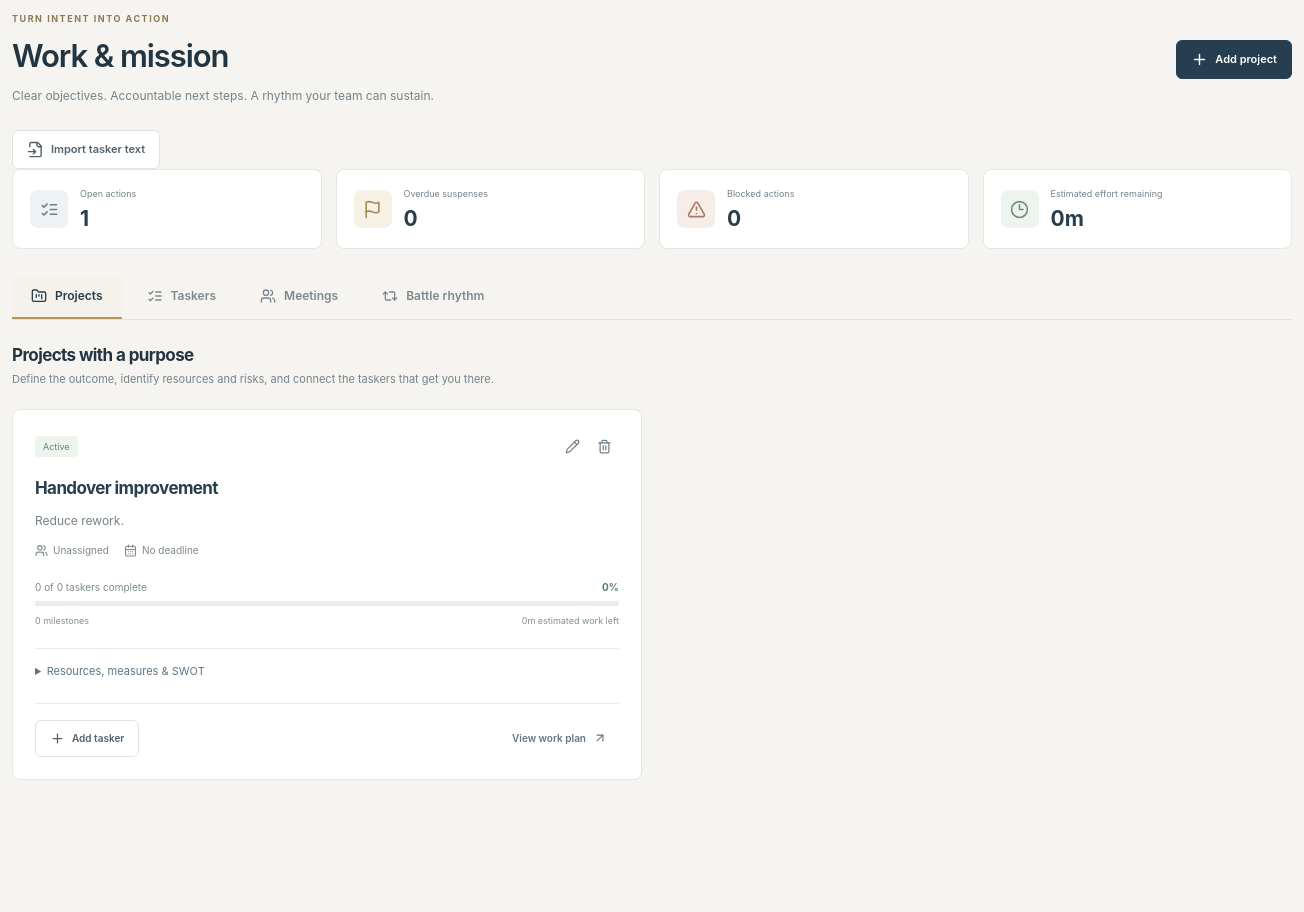
Test: mission work UI › shows source connections even without notes and keeps metric labels when values are missing
The width and height of the screenshot is (1304, 912).
Click the tab "Taskers" at point(181, 297), box [128,275,235,319]
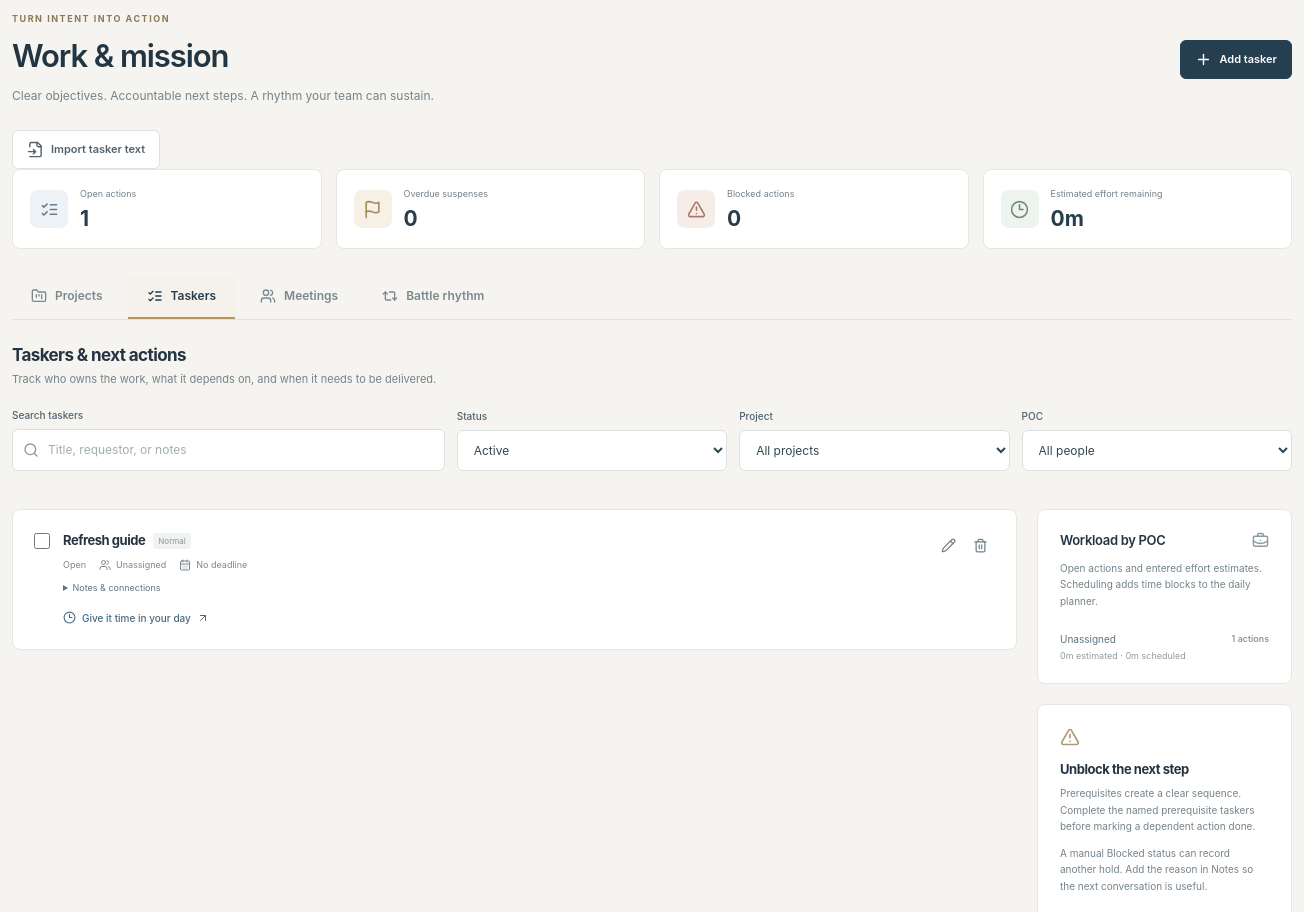
Check: the heading "Notes & connections" is shown, box [72,582,160,593]
